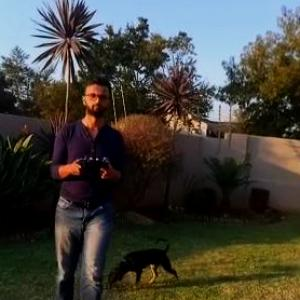follow: (49, 70, 126, 299)
null: (107, 232, 179, 289)
